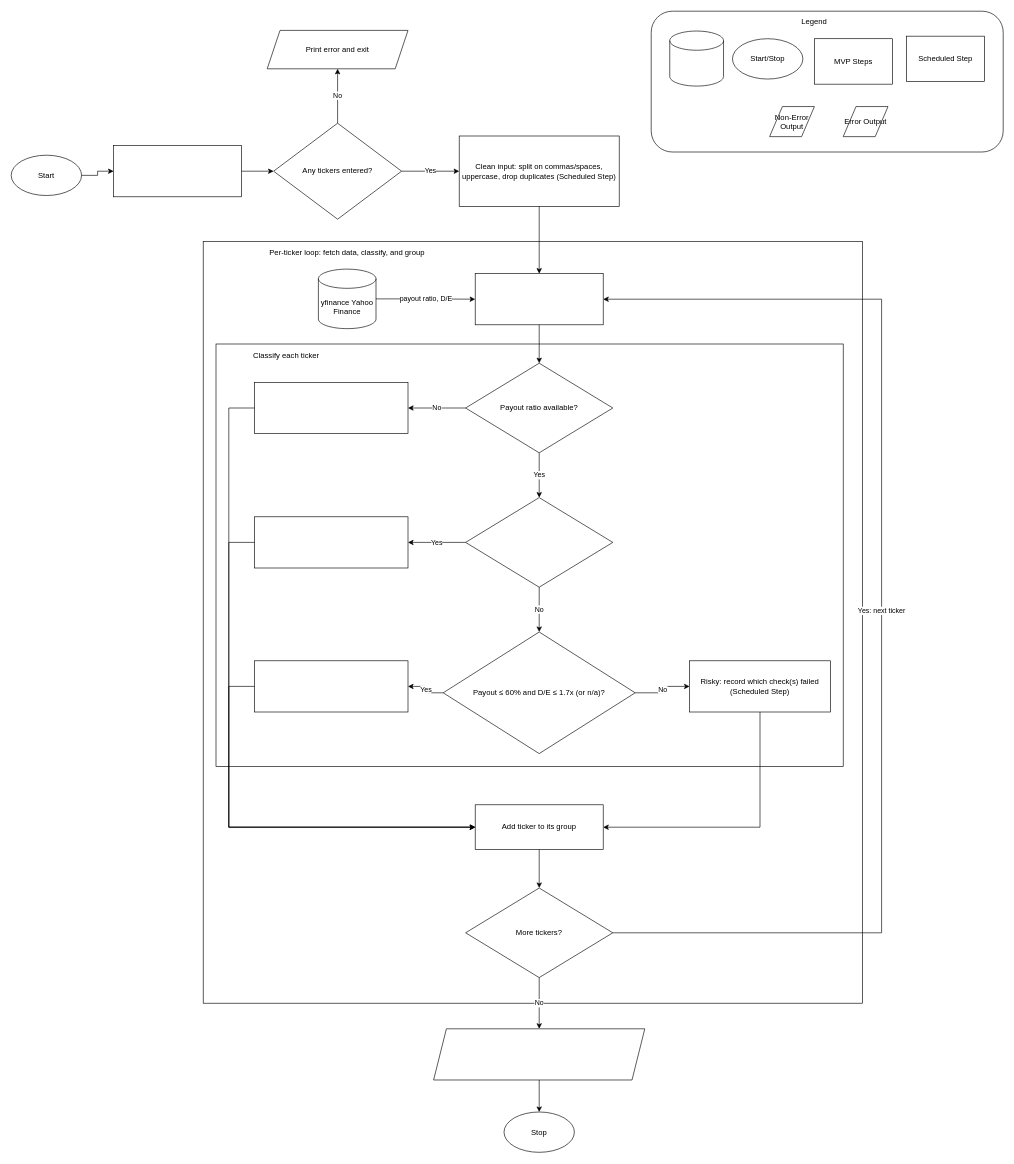
Image size: 1014x1164. Some labels were removed from this diagram. The shapes that lost their labels are listed below. From the top down, each one's centre as x and y in pixels, then its label:
At (x=696, y=58): "External Source".
At (x=177, y=171): "Ask user to type tickers (Scheduled Step)".
At (x=539, y=299): "Fetch payout ratio and debt-to-equity (one yfinance call)".
At (x=331, y=408): "Skipped: ticker not found or no payout data; warn the user".
At (x=331, y=542): "No record of dividend payout".
At (x=539, y=542): "Payout ratio = 0%?".
At (x=331, y=686): "Safe".
At (x=539, y=1054): "Print grouped results: payout ratio, D/E, and why risky".
